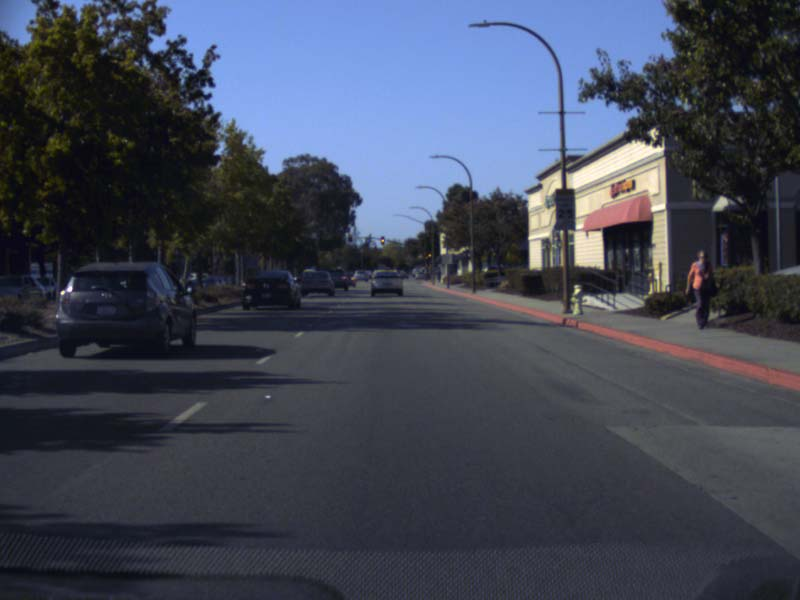Yellow: (380, 236, 384, 244), (348, 233, 352, 241), (427, 252, 431, 258)
